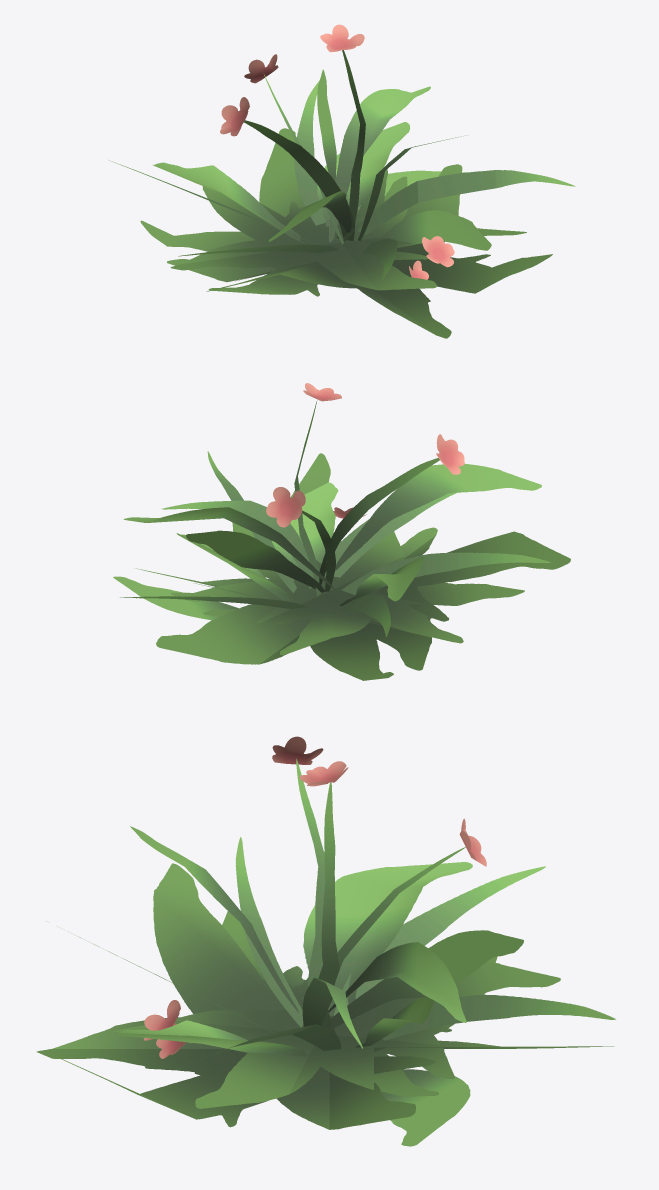
Rendered from plant_04.glb.
3 renders of one model, top to bottom at view 1: azimuth 30°, elevation 25°; view 2: azimuth 150°, elevation 25°; view 3: azimuth 270°, elevation 25°, orthographic. The views are drawn at different scales.
Parts seen in each view (by area): view 1: plant_04; view 2: plant_04; view 3: plant_04.
Boxes of the visible parts, x1=… form: plant_04: x1=109, y1=24, x2=575, y2=338; plant_04: x1=113, y1=383, x2=570, y2=680; plant_04: x1=36, y1=736, x2=615, y2=1146.
Bounding box in the file's own units: 1.02 × 0.5776 × 1.02.
Materials: 1 (1 with a texture image).
